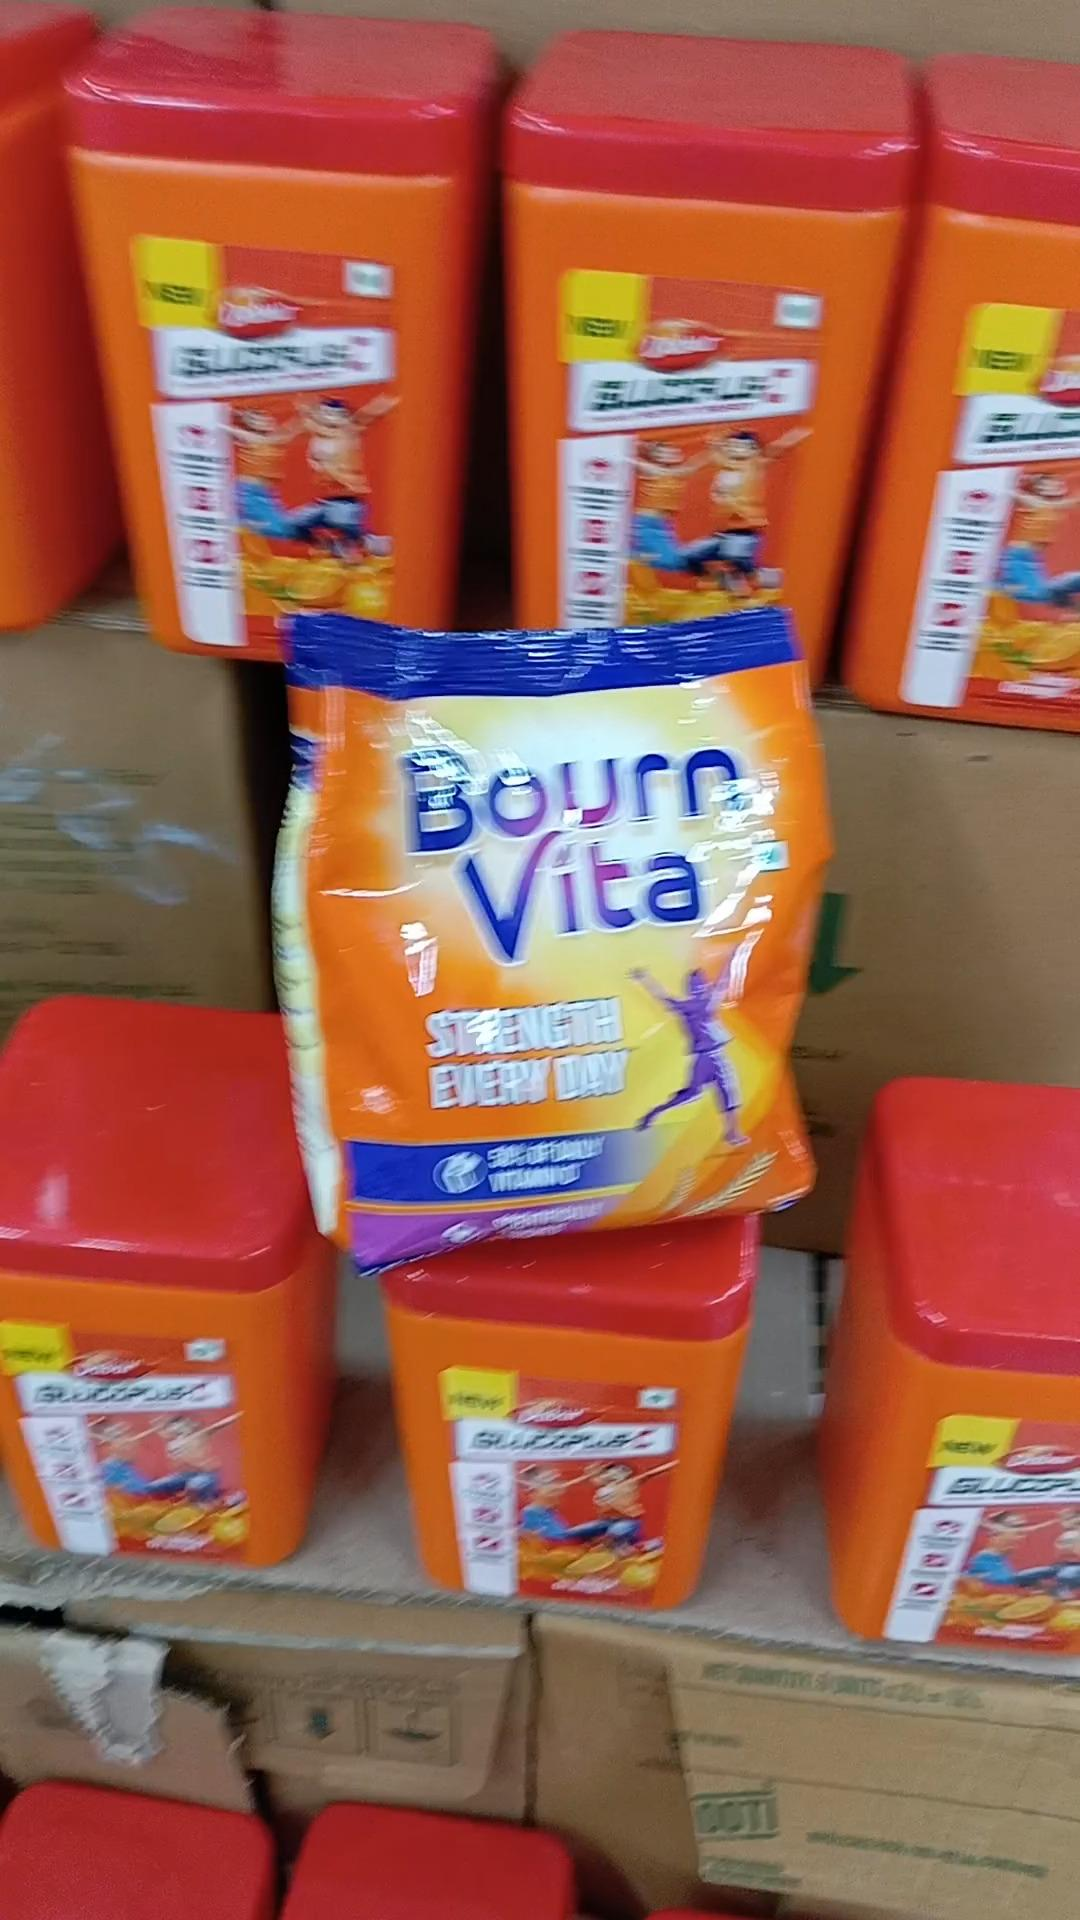BOURN_VITA_500_G_POUCH: (295, 620, 819, 1240)
